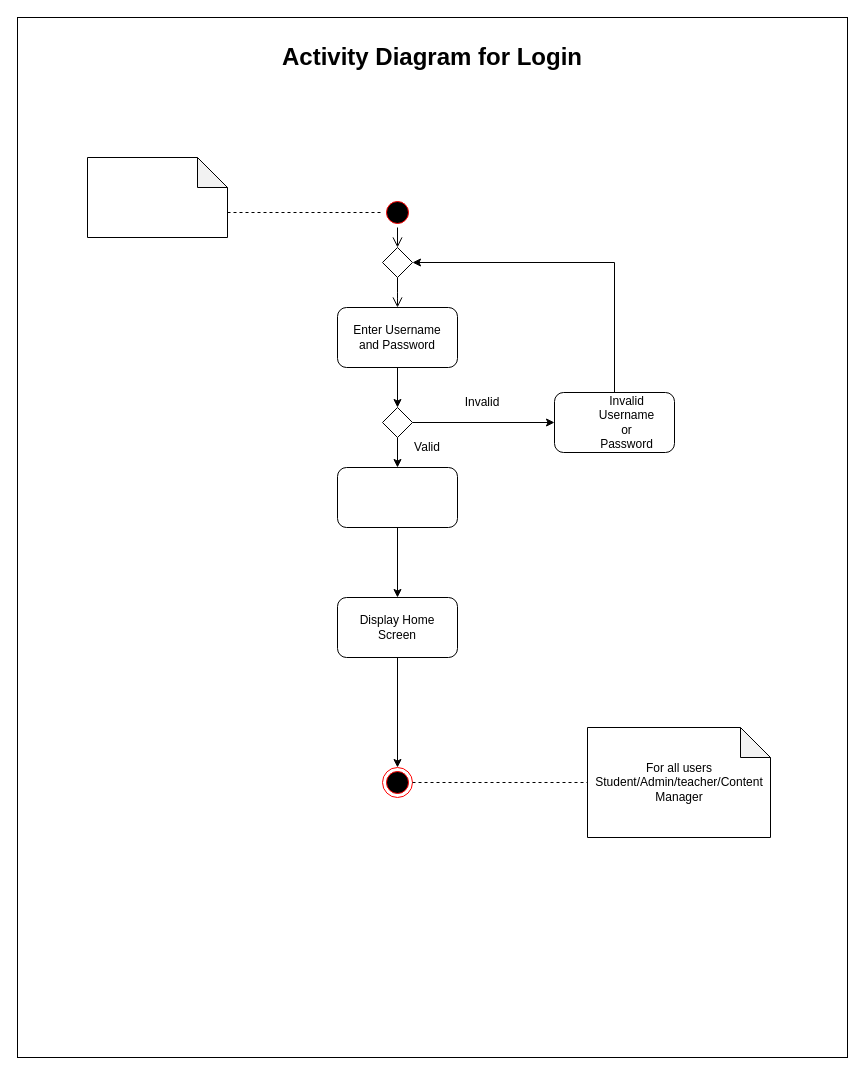
The diagram is 865 pixels wide and 1075 high, and some of its shapes have lost their labels. Each missing label, with the centre of its shape:
Logged in Successfully: (x=397, y=497)
User is Registered: (x=157, y=197)
